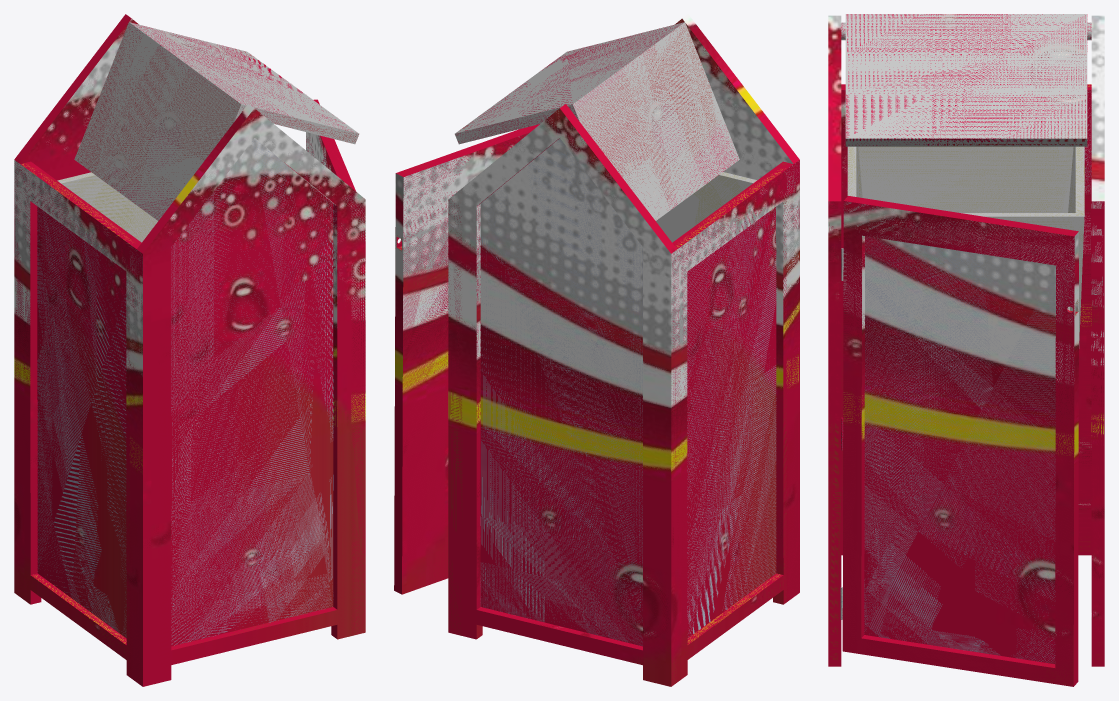
The picture shows the model from 3 angles, left to right: view 1: azimuth 30°, elevation 25°; view 2: azimuth 150°, elevation 25°; view 3: azimuth 270°, elevation 25°; orthographic projection. The views are drawn at different scales.
Parts seen in each view (by area): view 1: mesh1_mesh1-geometry, mesh11_mesh11-geometry, mesh15_mesh15-geometry, mesh5_mesh5-geometry; view 2: mesh1_mesh1-geometry, mesh11_mesh11-geometry, mesh5_mesh5-geometry, mesh15_mesh15-geometry; view 3: mesh5_mesh5-geometry, mesh11_mesh11-geometry, mesh1_mesh1-geometry, mesh15_mesh15-geometry.
Part boxes in pixels (box(x1,y1,x2,y2)): mesh1_mesh1-geometry: box(14, 14, 365, 686); mesh11_mesh11-geometry: box(74, 22, 359, 220); mesh15_mesh15-geometry: box(57, 172, 157, 242); mesh5_mesh5-geometry: box(306, 99, 355, 190); mesh1_mesh1-geometry: box(448, 14, 799, 686); mesh11_mesh11-geometry: box(455, 22, 739, 220); mesh5_mesh5-geometry: box(394, 124, 539, 594); mesh15_mesh15-geometry: box(656, 172, 756, 242); mesh5_mesh5-geometry: box(842, 196, 1078, 686); mesh11_mesh11-geometry: box(845, 14, 1087, 146); mesh1_mesh1-geometry: box(828, 15, 1104, 666); mesh15_mesh15-geometry: box(847, 146, 1084, 348).
Bounding box in the file's own units: 0.4539 × 0.8207 × 0.347.
